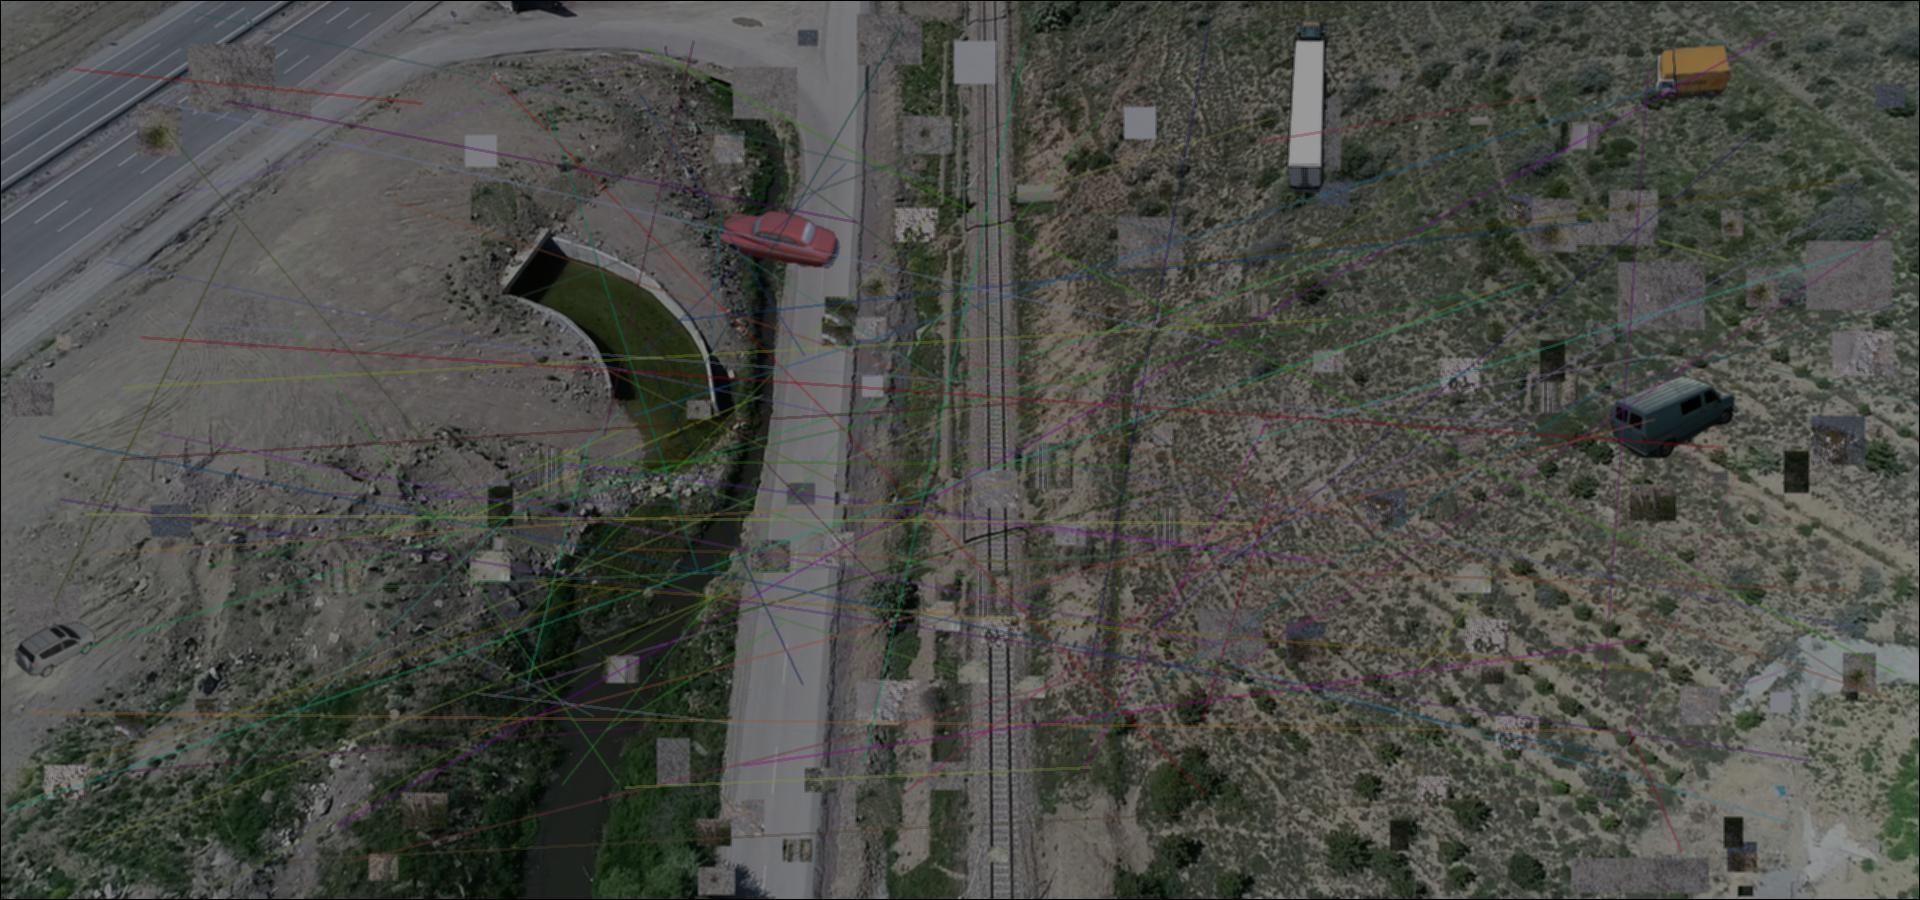arac: (1610, 372, 1735, 458), (1281, 15, 1329, 193), (718, 211, 840, 269), (15, 618, 96, 680), (1653, 45, 1730, 102)
